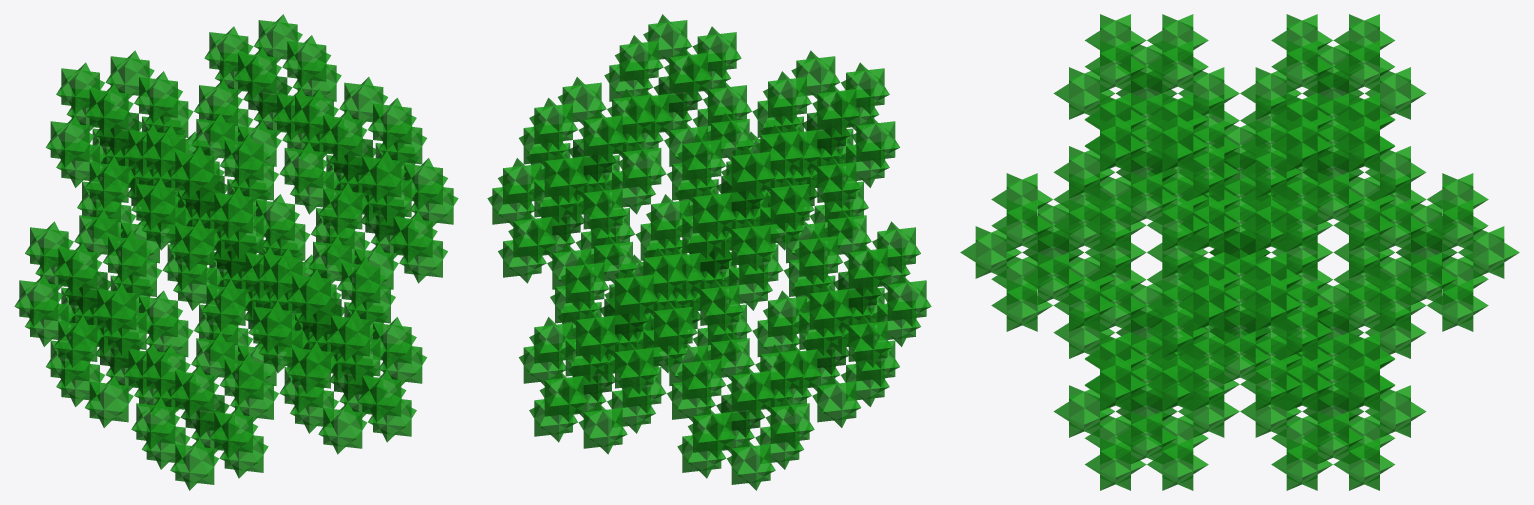
File: fractalescher2.glb
3 renders of one model, left to right at view 1: azimuth 30°, elevation 25°; view 2: azimuth 150°, elevation 25°; view 3: azimuth 270°, elevation 25°, orthographic. The views are drawn at different scales.
Bounding box in the file's own units: 12.43 × 8.79 × 12.43.
